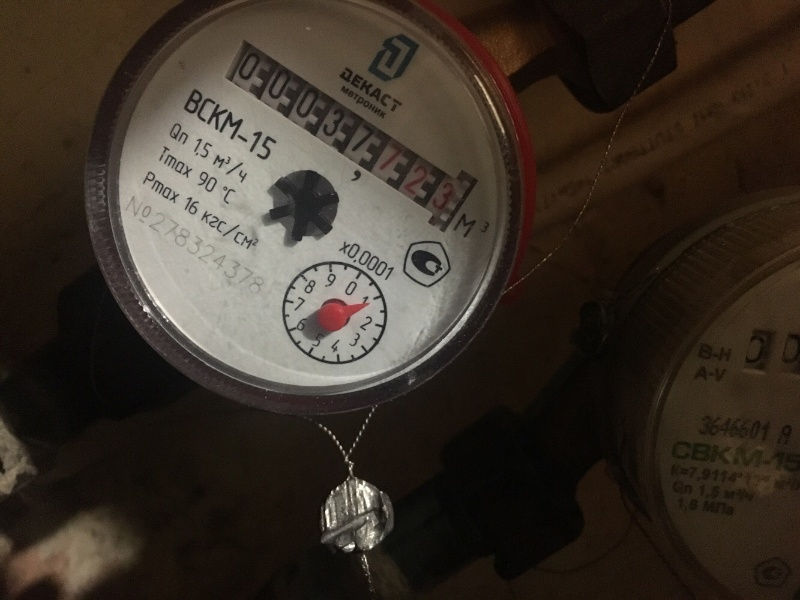meter: (221, 50, 458, 206)
